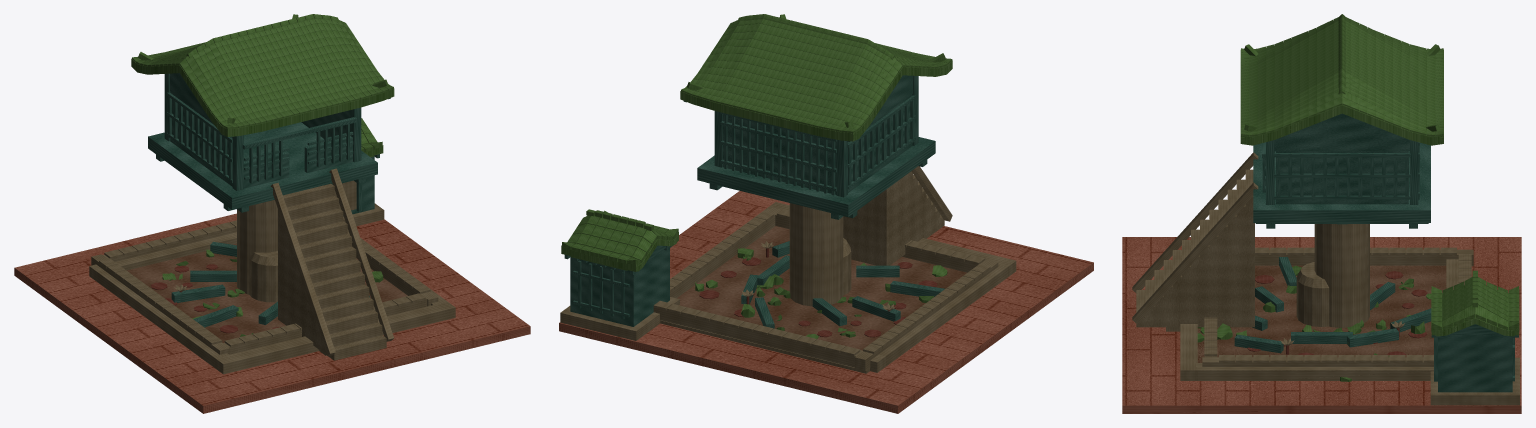
3 views of the same model, side by side, from view 1: azimuth 30°, elevation 25°; view 2: azimuth 150°, elevation 25°; view 3: azimuth 270°, elevation 25° (orthographic). The views are drawn at different scales.
Visible parts, largest first — view 1: garrison_part_0001, garrison_part_0000, garrison_part_0002; view 2: garrison_part_0001, garrison_part_0000, garrison_part_0002; view 3: garrison_part_0001, garrison_part_0000, garrison_part_0002.
Boxes of the visible parts, bbox=[...] form: garrison_part_0001: bbox=[99, 14, 430, 360]; garrison_part_0000: bbox=[14, 200, 530, 413]; garrison_part_0002: bbox=[89, 232, 455, 374]; garrison_part_0001: bbox=[561, 14, 990, 356]; garrison_part_0000: bbox=[559, 191, 1093, 413]; garrison_part_0002: bbox=[670, 202, 1016, 372]; garrison_part_0001: bbox=[1132, 14, 1519, 392]; garrison_part_0000: bbox=[1122, 224, 1521, 413]; garrison_part_0002: bbox=[1166, 257, 1458, 381].
Bounding box in the file's own units: 1725 × 1369 × 1725.
